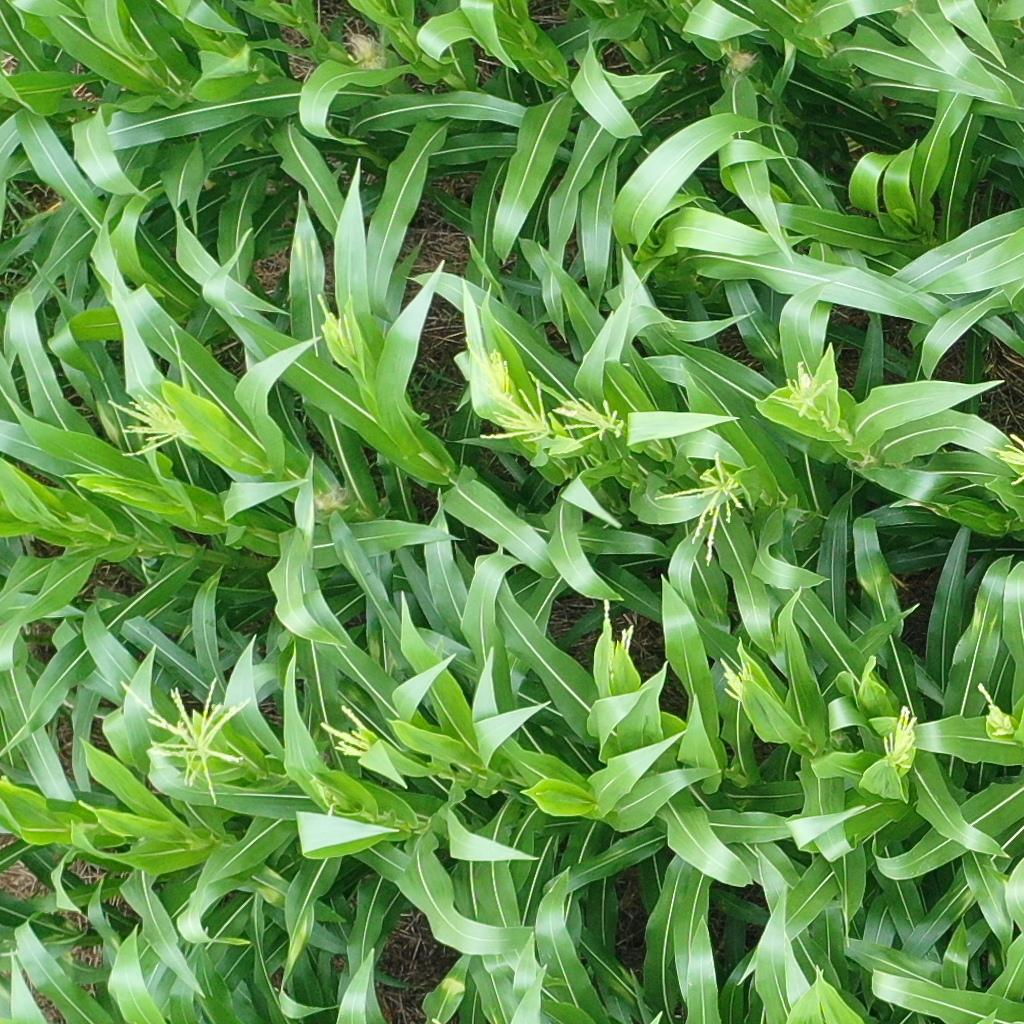Tassel: (114, 669, 251, 807), (654, 448, 754, 567), (98, 388, 192, 460), (480, 375, 559, 454), (771, 360, 841, 433), (314, 292, 370, 374), (460, 340, 519, 415), (599, 593, 641, 696), (552, 395, 632, 449), (317, 703, 379, 758), (879, 698, 921, 770), (971, 681, 1014, 745), (714, 651, 758, 713), (993, 427, 1024, 492), (312, 779, 341, 818)
